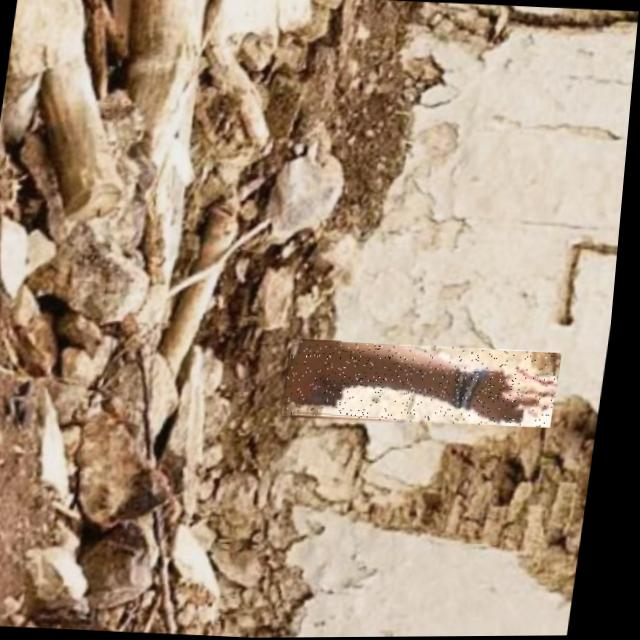Person in Rubble: (287, 339, 568, 431)
